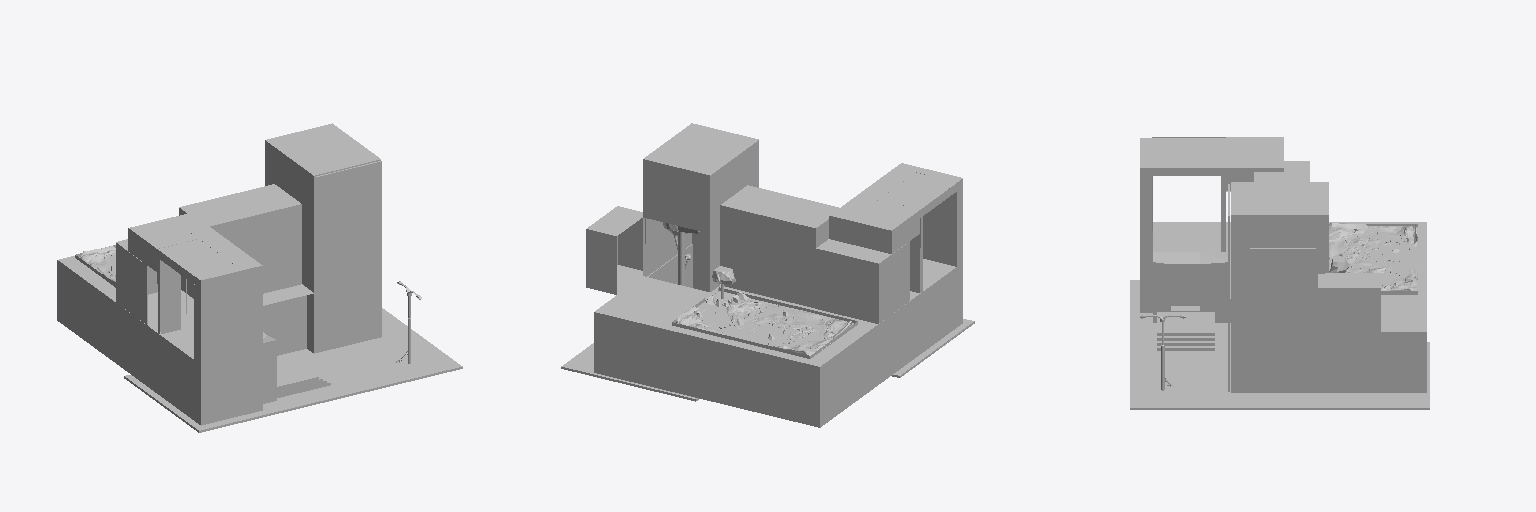
Rendered from The Bog Tex.obj.
The picture shows the model from 3 angles: view 1: azimuth 30°, elevation 25°; view 2: azimuth 150°, elevation 25°; view 3: azimuth 270°, elevation 25°; orthographic projection.
Parts seen in each view (by area): view 1: Brutalism polySurface91, Road1 Eco_Brutalism_3, polySurface20 Road1, Brutalism polySurface87, Brutalism polySurface98, Brutalism polySurface94, Road1 Stairs, pasted__MoldA Mold1; view 2: Brutalism polySurface91, Brutalism polySurface90, Brutalism polySurface97, Brutalism polySurface98, polySurface273 Pond, Brutalism polySurface87, polySurface20 Road1, Brutalism polySurface94, Mold1 pasted__MoldA1, Brutalism polySurface99, Brutalism1 pasted__pasted__pasted__Eco_Brutalism_3 pasted__paste, Mold pasted__MoldA2; view 3: Brutalism polySurface91, polySurface20 Road1, Brutalism1 pasted__pasted__pasted__Eco_Brutalism_3 pasted__paste, Brutalism polySurface90, pasted__Eco_Brutalism_3 pasted__Road1 Eco_Brutalism group1 Bruta, Brutalism polySurface98, Road1 Stairs, polySurface273 Pond, Brutalism polySurface94, Mold1 pasted__MoldA1, pasted__MoldA Mold1.
Boxes of the visible parts, <box> form: Brutalism polySurface91: <box>57,123,380,425</box>; Road1 Eco_Brutalism_3: <box>316,161,381,352</box>; polySurface20 Road1: <box>124,308,462,432</box>; Brutalism polySurface87: <box>116,243,180,333</box>; Brutalism polySurface98: <box>128,213,208,313</box>; Brutalism polySurface94: <box>158,239,234,275</box>; Road1 Stairs: <box>277,356,330,397</box>; pasted__MoldA Mold1: <box>80,246,115,276</box>; Brutalism polySurface91: <box>594,123,962,427</box>; Brutalism polySurface90: <box>586,206,642,294</box>; Brutalism polySurface97: <box>816,249,878,323</box>; Brutalism polySurface98: <box>821,197,919,253</box>; polySurface273 Pond: <box>672,287,857,358</box>; Brutalism polySurface87: <box>879,205,922,322</box>; polySurface20 Road1: <box>561,319,974,401</box>; Brutalism polySurface94: <box>879,173,955,209</box>; Mold1 pasted__MoldA1: <box>768,305,851,339</box>; Brutalism polySurface99: <box>816,239,905,263</box>; Brutalism1 pasted__pasted__pasted__Eco_Brutalism_3 pasted__paste: <box>647,244,692,287</box>; Mold pasted__MoldA2: <box>726,301,764,328</box>; Brutalism polySurface91: <box>1140,158,1426,392</box>; polySurface20 Road1: <box>1130,280,1429,409</box>; Brutalism1 pasted__pasted__pasted__Eco_Brutalism_3 pasted__paste: <box>1231,336,1421,390</box>; Brutalism polySurface90: <box>1318,273,1380,346</box>; pasted__Eco_Brutalism_3 pasted__Road1 Eco_Brutalism group1 Bruta: <box>1250,248,1324,300</box>; Brutalism polySurface98: <box>1221,137,1283,251</box>; Road1 Stairs: <box>1157,312,1214,350</box>; polySurface273 Pond: <box>1329,224,1417,294</box>; Brutalism polySurface94: <box>1152,138,1225,157</box>; Mold1 pasted__MoldA1: <box>1329,223,1372,268</box>; pasted__MoldA Mold1: <box>1363,224,1417,246</box>.
Size of the model in its own units: 24.09 by 15.74 by 23.7.